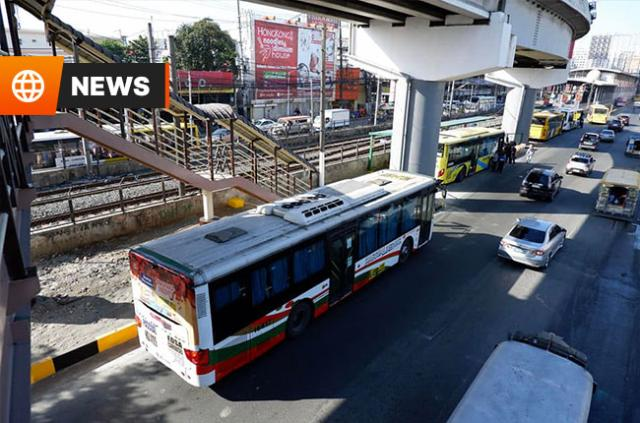bus: (118, 169, 433, 394), (436, 124, 507, 184), (528, 110, 564, 141), (586, 103, 609, 124)
car: (493, 214, 572, 272), (518, 167, 563, 201), (565, 153, 595, 176), (577, 132, 600, 151), (597, 129, 615, 143), (607, 119, 623, 132), (616, 115, 629, 127)
jeepney: (593, 167, 640, 220), (624, 136, 639, 158)
